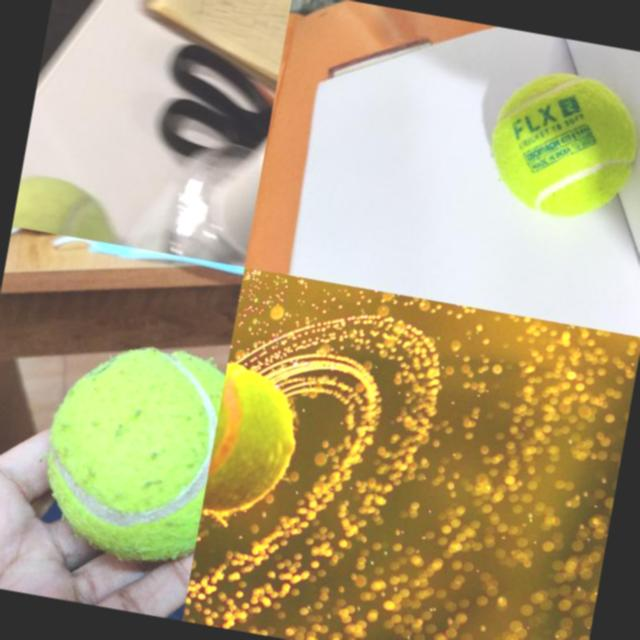tennis-ball: (30, 330, 227, 569), (478, 59, 640, 227), (201, 362, 306, 524), (12, 170, 127, 244)
